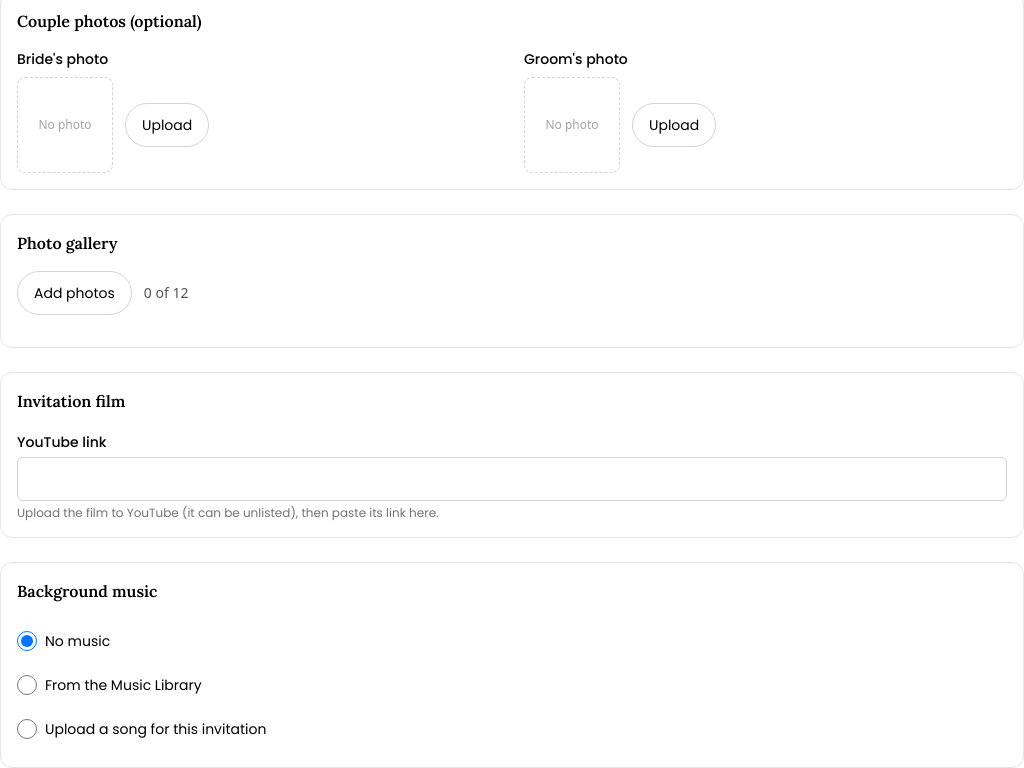
Test: music › says so when the Music Library couldn't be loaded
(page scrolled)
Click the radio button labelled "From the Music Library".
click(27, 685)  # box [17,675,37,695]
(page scrolled)
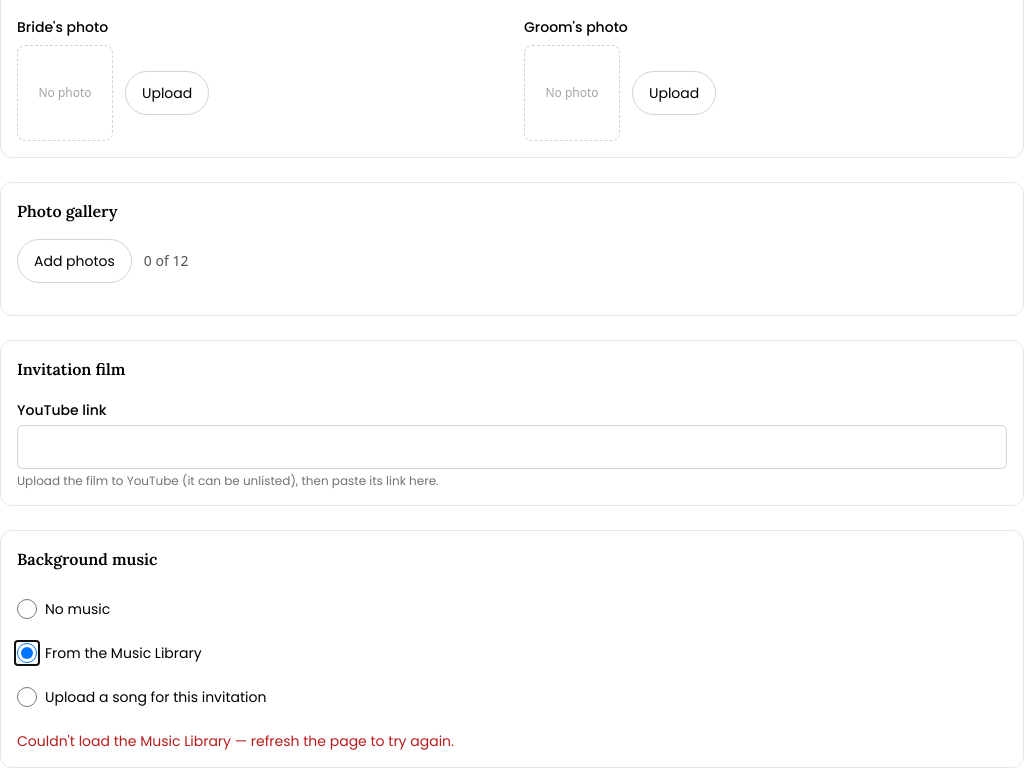
Expected: the message reads "Couldn't load the Music Library — refresh the page to try again.", [17,731,454,751]
